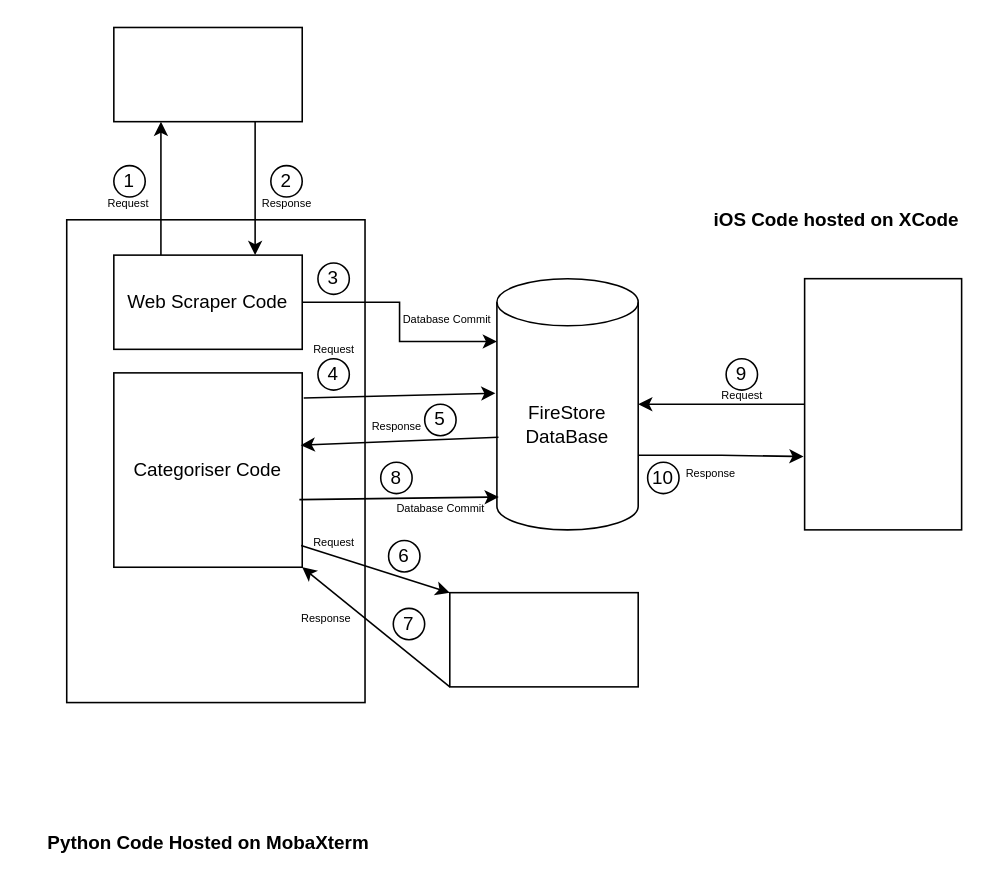
Image size: 1003x895. Some labels were removed from this diagram. The centre of each missing label's shape, as x and y in pixels:
Front-End Application: pixel 882 403
Spoonacular: pixel 543 639
Store Webpage: pixel 207 74
